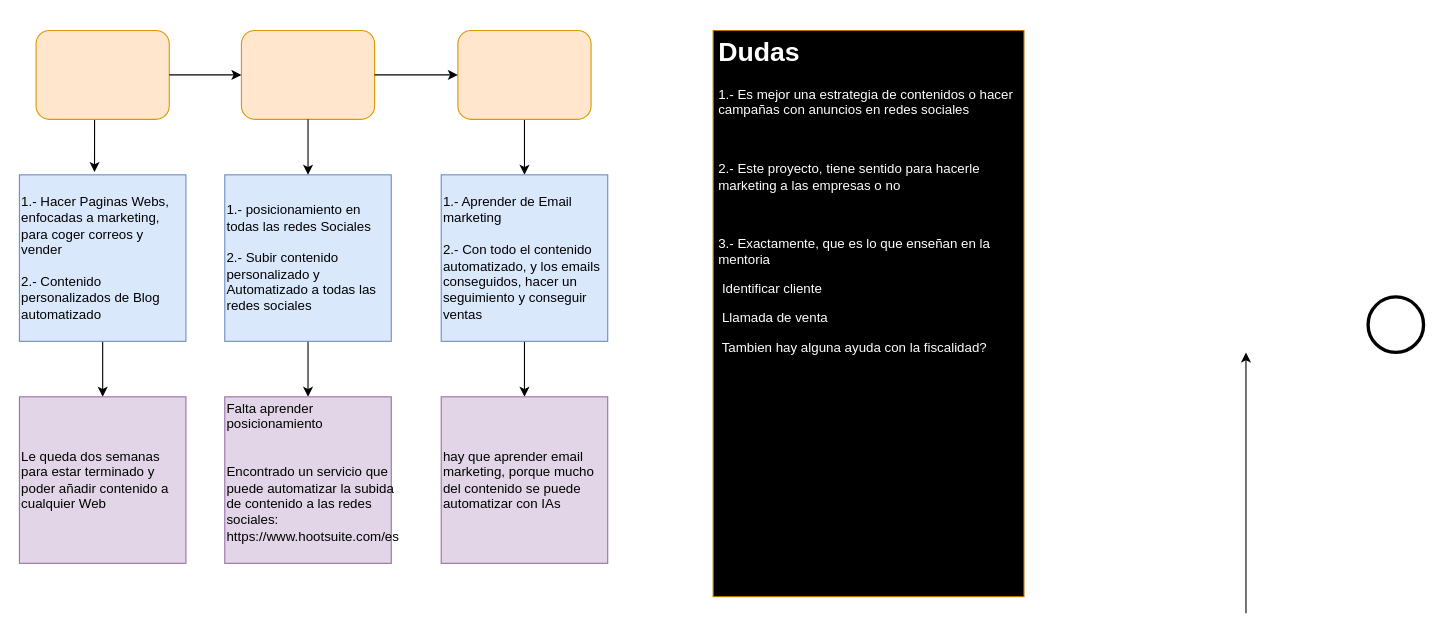
Some shapes in this 1443 by 642 pixel diagram are drawn without their labels. Here are the shapes that lost their labels. From the top down, the box of each, then its label:
(35, 29, 169, 119): primera Fase
(240, 29, 375, 119): Segunda Fase
(457, 29, 591, 119): Tercera Fase
